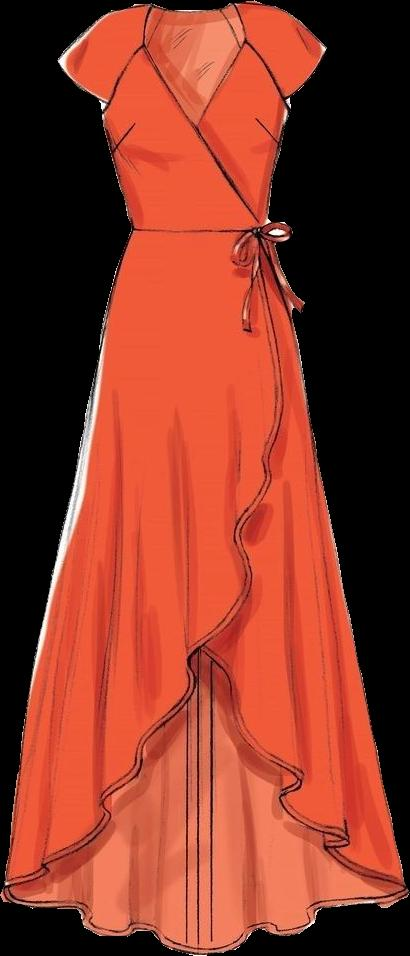Bodice: (102, 3, 289, 232)
Hemline: (2, 231, 284, 893), (0, 646, 403, 898)
Neckline: (139, 2, 244, 133)
Skirt: (0, 230, 408, 954)
Sleeve: (57, 4, 147, 104), (237, 0, 326, 97)
Sleeveline: (97, 1, 161, 115), (230, 0, 294, 110)
Waistline: (124, 221, 269, 240)
